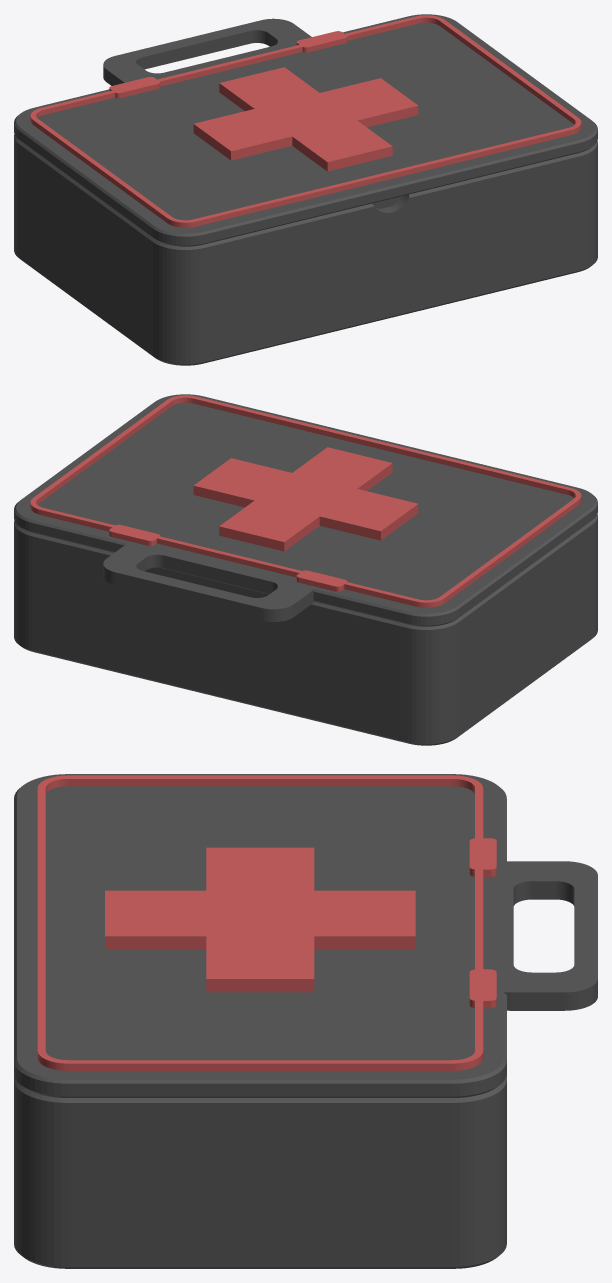
Rendered from medicina-montato.glb.
3 renders of one model, top to bottom at view 1: azimuth 30°, elevation 25°; view 2: azimuth 150°, elevation 25°; view 3: azimuth 270°, elevation 25°, orthographic. The views are drawn at different scales.
Visible parts, largest first — view 1: 01_vaschetta, 02_coperchio_con_manico, 04_croce, 03_cornice_e_attacchi; view 2: 01_vaschetta, 02_coperchio_con_manico, 04_croce, 03_cornice_e_attacchi; view 3: 02_coperchio_con_manico, 01_vaschetta, 04_croce, 03_cornice_e_attacchi.
Part boxes in pixels (x1,y1,x2,y2): 01_vaschetta: [14, 134, 597, 365]; 02_coperchio_con_manico: [14, 14, 597, 246]; 04_croce: [193, 67, 418, 171]; 03_cornice_e_attacchi: [30, 15, 581, 227]; 01_vaschetta: [14, 514, 597, 745]; 02_coperchio_con_manico: [14, 394, 597, 626]; 04_croce: [193, 447, 418, 551]; 03_cornice_e_attacchi: [30, 395, 581, 607]; 02_coperchio_con_manico: [14, 774, 597, 1097]; 01_vaschetta: [14, 1074, 506, 1268]; 04_croce: [105, 847, 415, 992]; 03_cornice_e_attacchi: [37, 775, 496, 1070].
Bounding box in the file's own units: 0.108 × 0.0332 × 0.0865.
